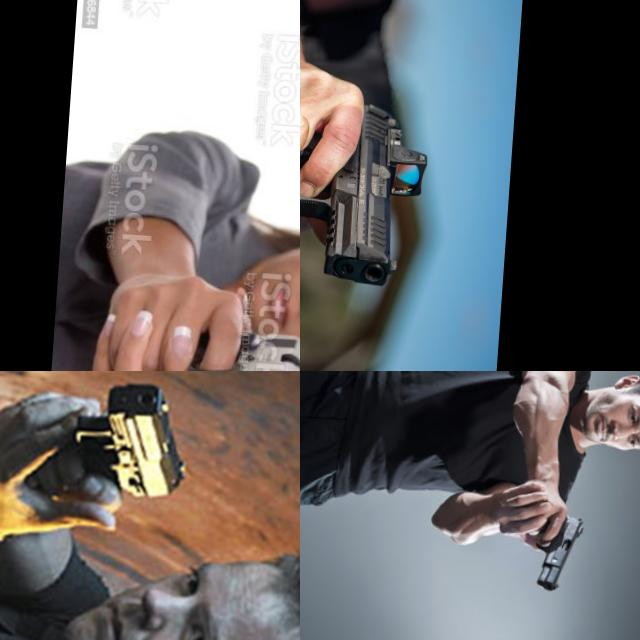handgun: (300, 96, 432, 292), (66, 377, 194, 505), (179, 322, 300, 371), (530, 510, 586, 593)
